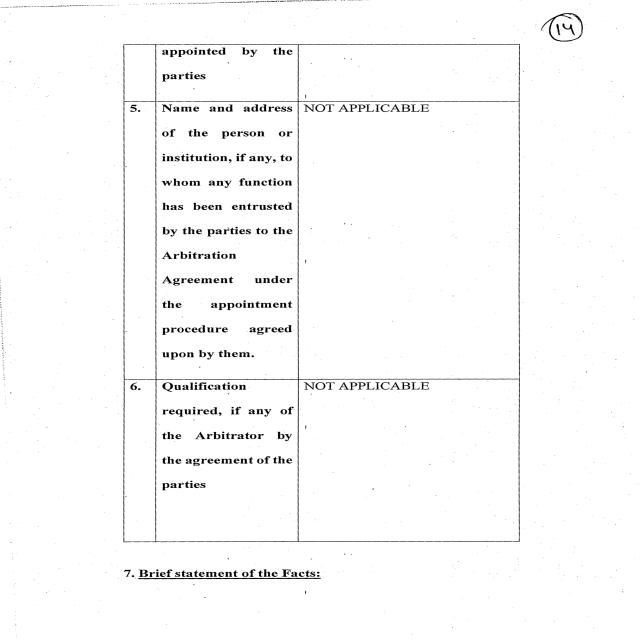page-number: (522, 1, 638, 160)
